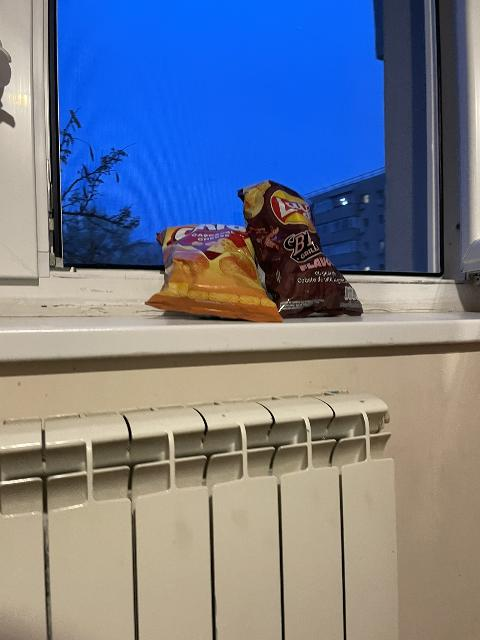Chio Cascaval 125g: (143, 224, 280, 321)
Lays Beef Grilled Ribs 125g: (241, 179, 362, 318)
